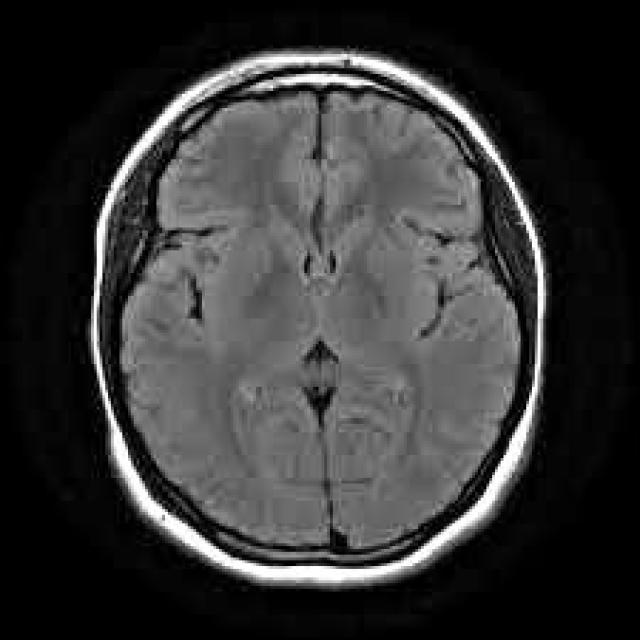notumor: (91, 51, 546, 583)
